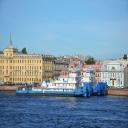tugboat: (16, 67, 94, 101)
